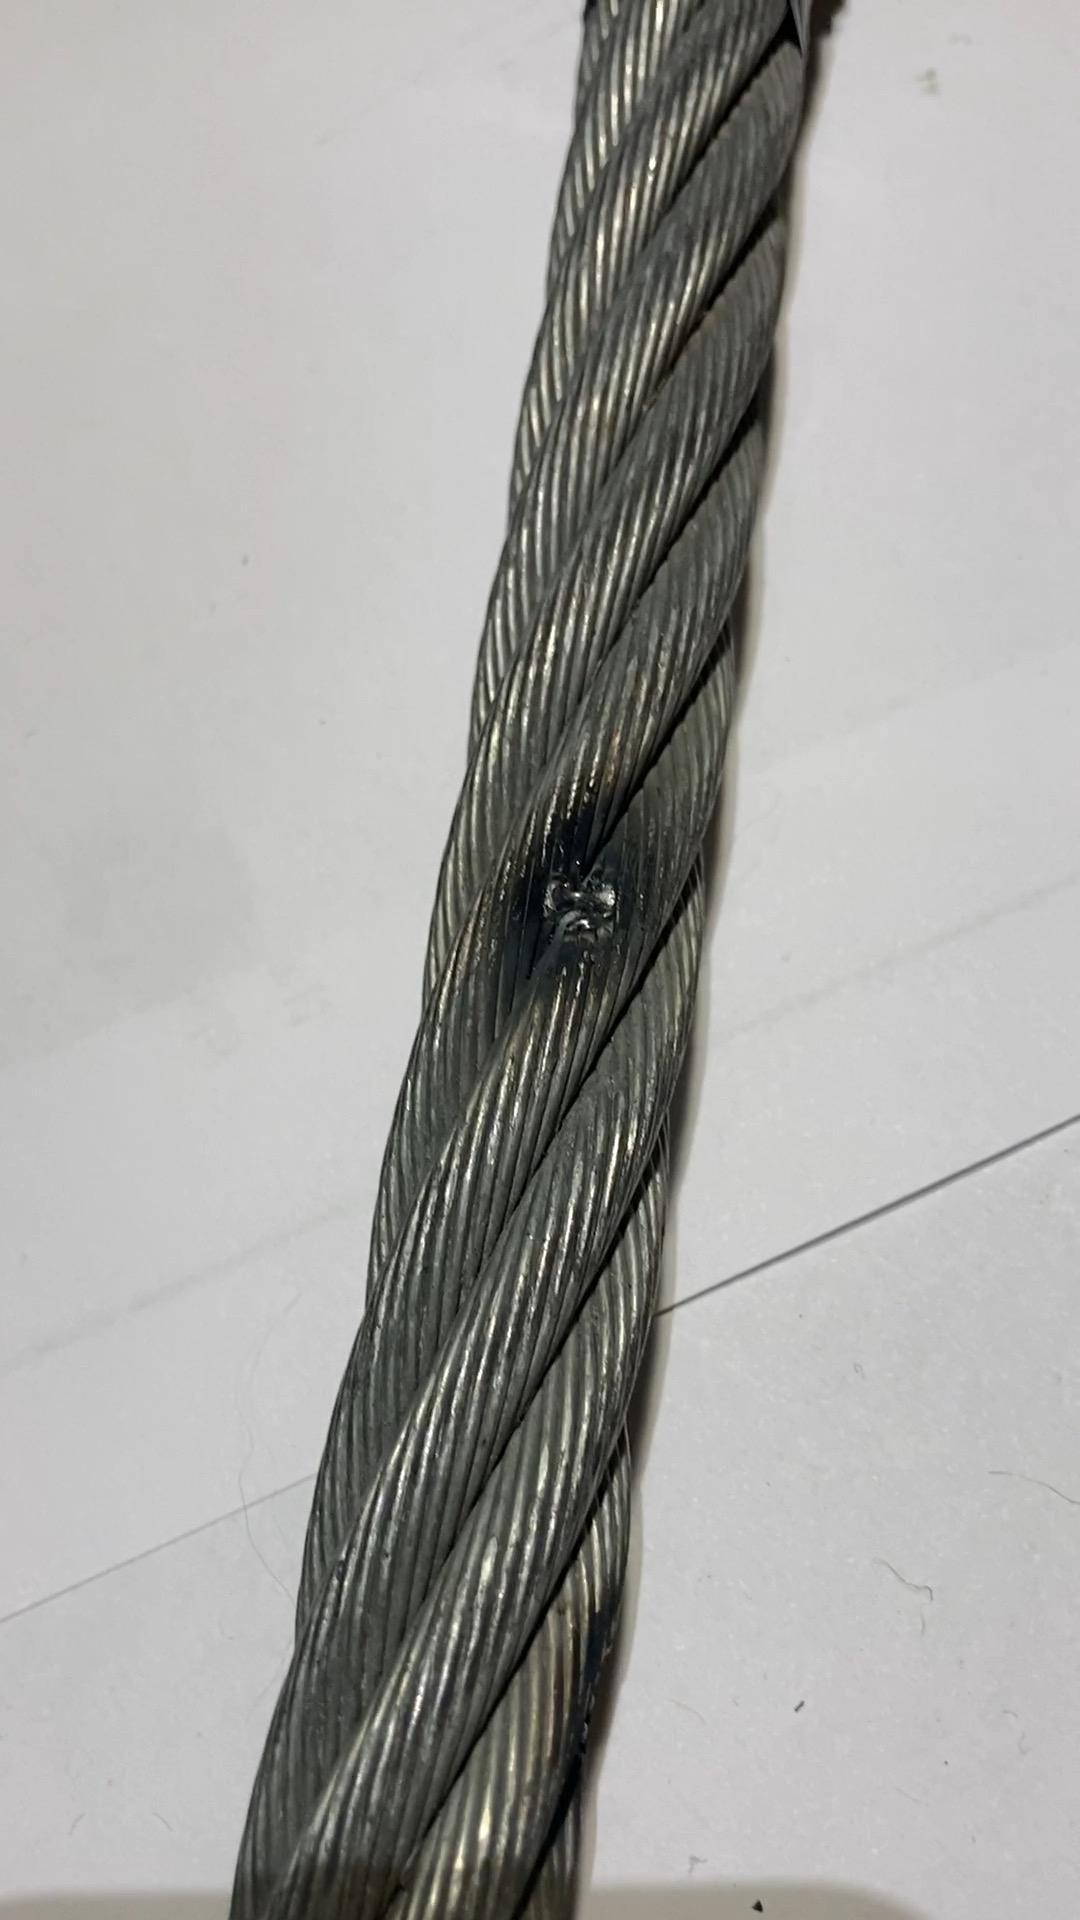thunderbolt: (492, 825, 680, 975)
